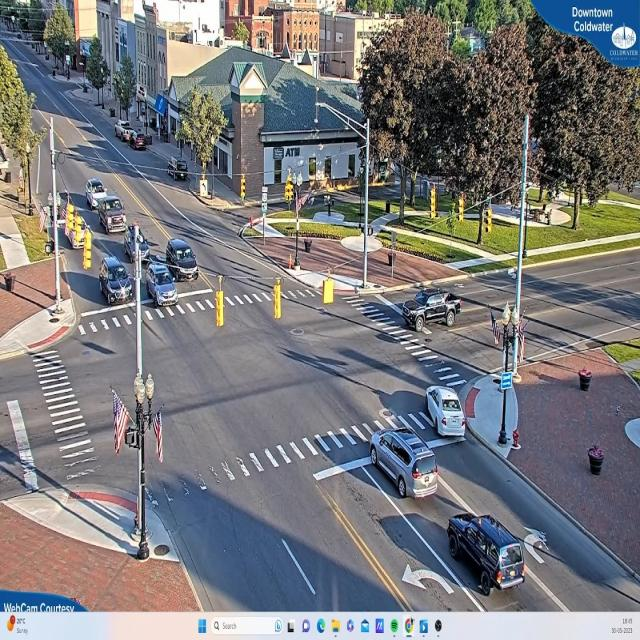car: (448, 512, 532, 593), (370, 429, 440, 499), (404, 282, 462, 326), (99, 249, 133, 309), (169, 227, 202, 284), (144, 263, 178, 308), (92, 194, 129, 234)
